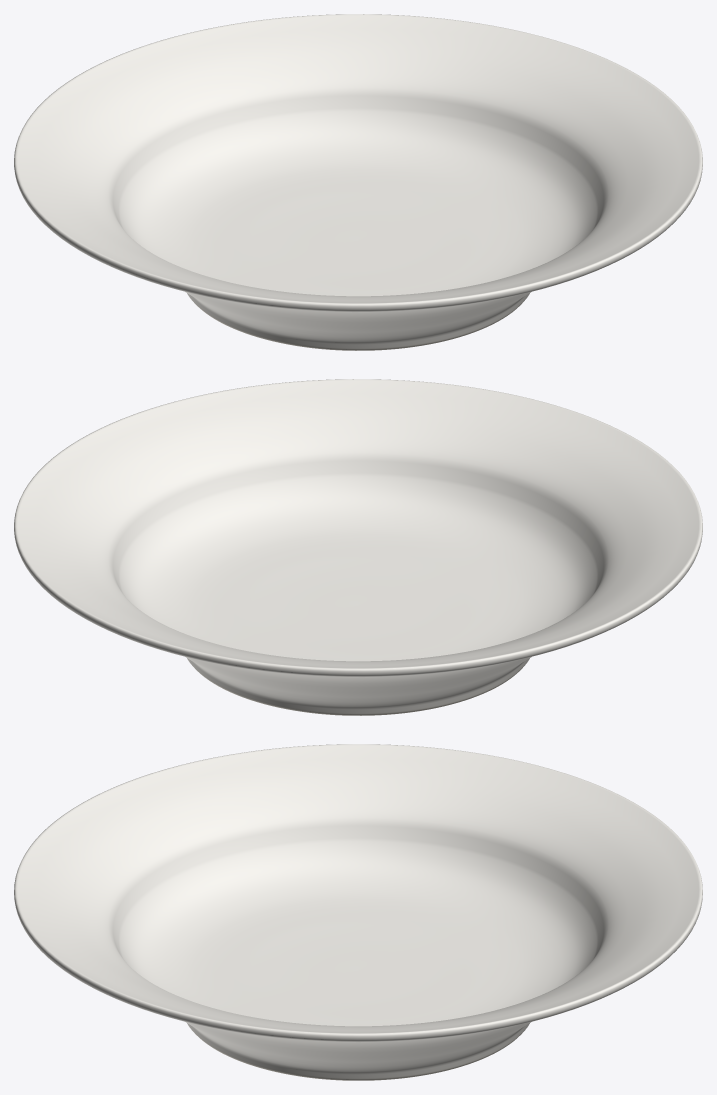
File: white-soup-plate.glb
The picture shows the model from 3 angles, top to bottom: view 1: azimuth 30°, elevation 25°; view 2: azimuth 150°, elevation 25°; view 3: azimuth 270°, elevation 25°; orthographic projection.
Parts seen in each view (by area): view 1: white-soup-plate; view 2: white-soup-plate; view 3: white-soup-plate.
Part boxes in pixels (x1,y1,x2,y2): white-soup-plate: (14,14,702,350); white-soup-plate: (14,379,702,715); white-soup-plate: (14,744,702,1080).
Bounding box in the file's own units: 0.2365 × 0.045 × 0.2365.
Materials: 1 (1 with a texture image).
